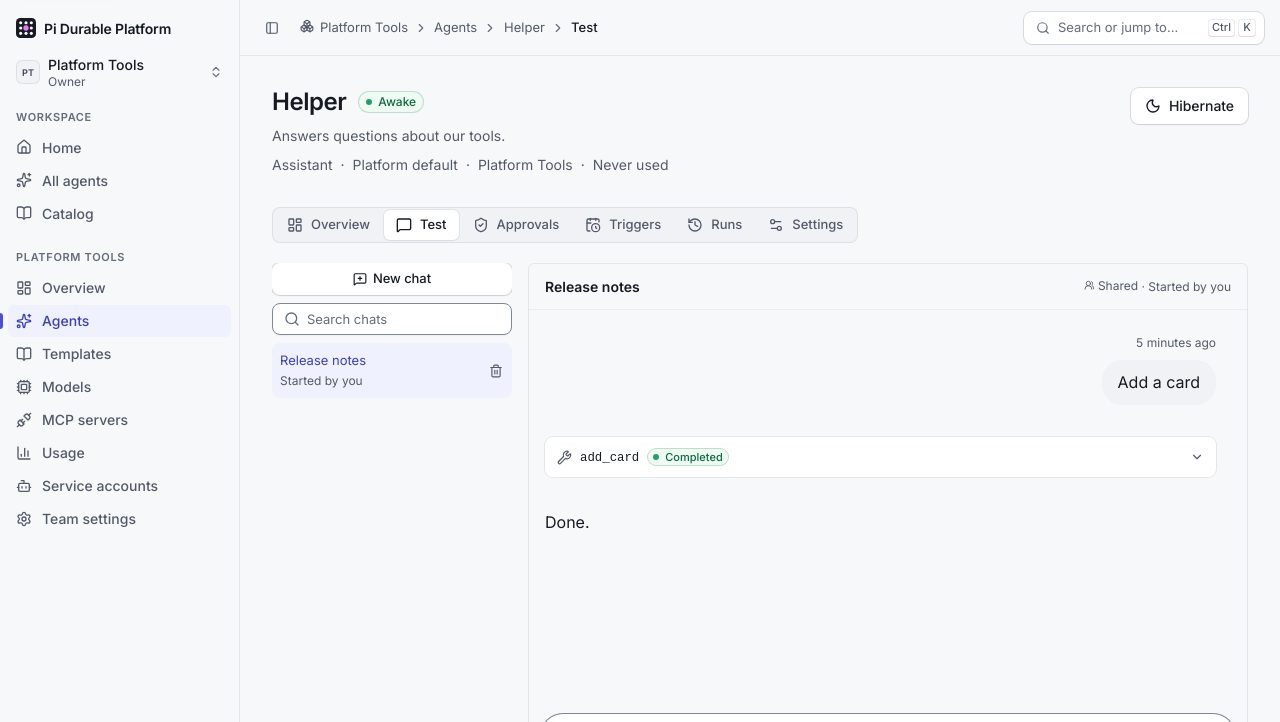
Test case: test chat: threads and messages › shows a tool's details in its collapsed card
Expected: the text "Details" is not shown
Click the button "add_card Completed" at (610, 458), box [545, 437, 1216, 477]
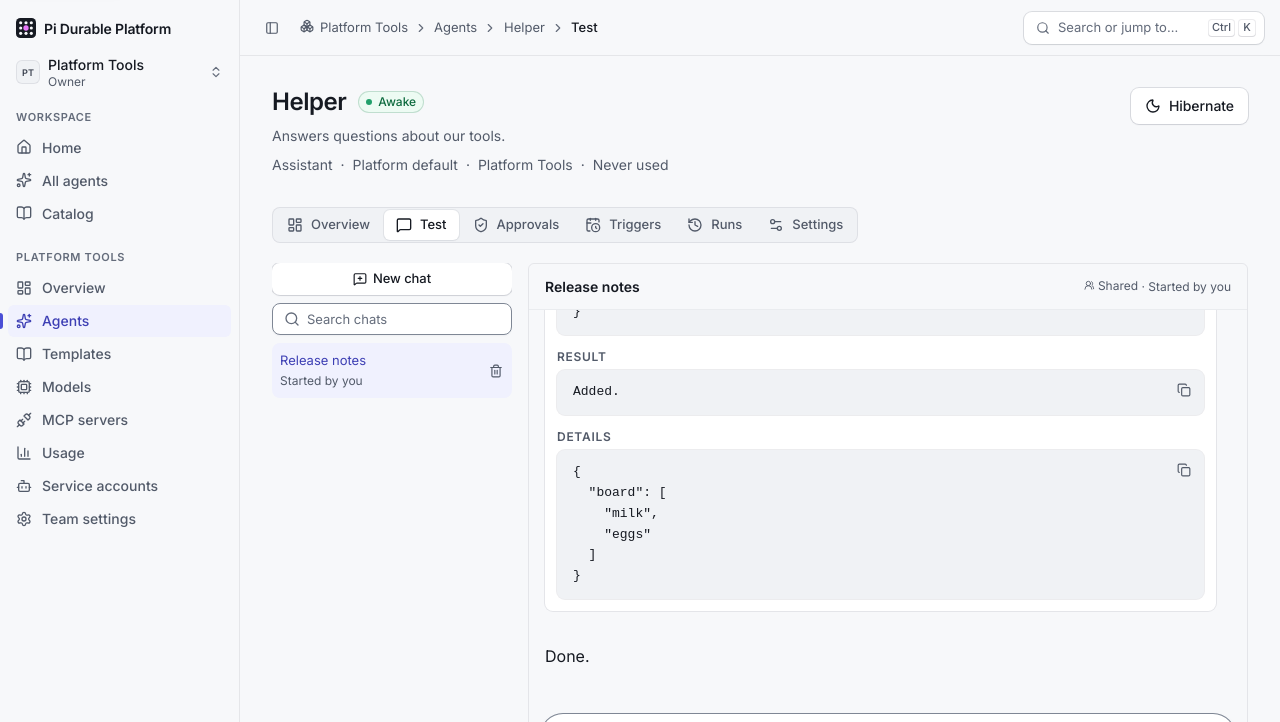
Expected: the text "Details" shows "\"board\"", [573, 464, 667, 583]
Expected: the text "Details" shows "\"eggs\"", [573, 464, 667, 583]
